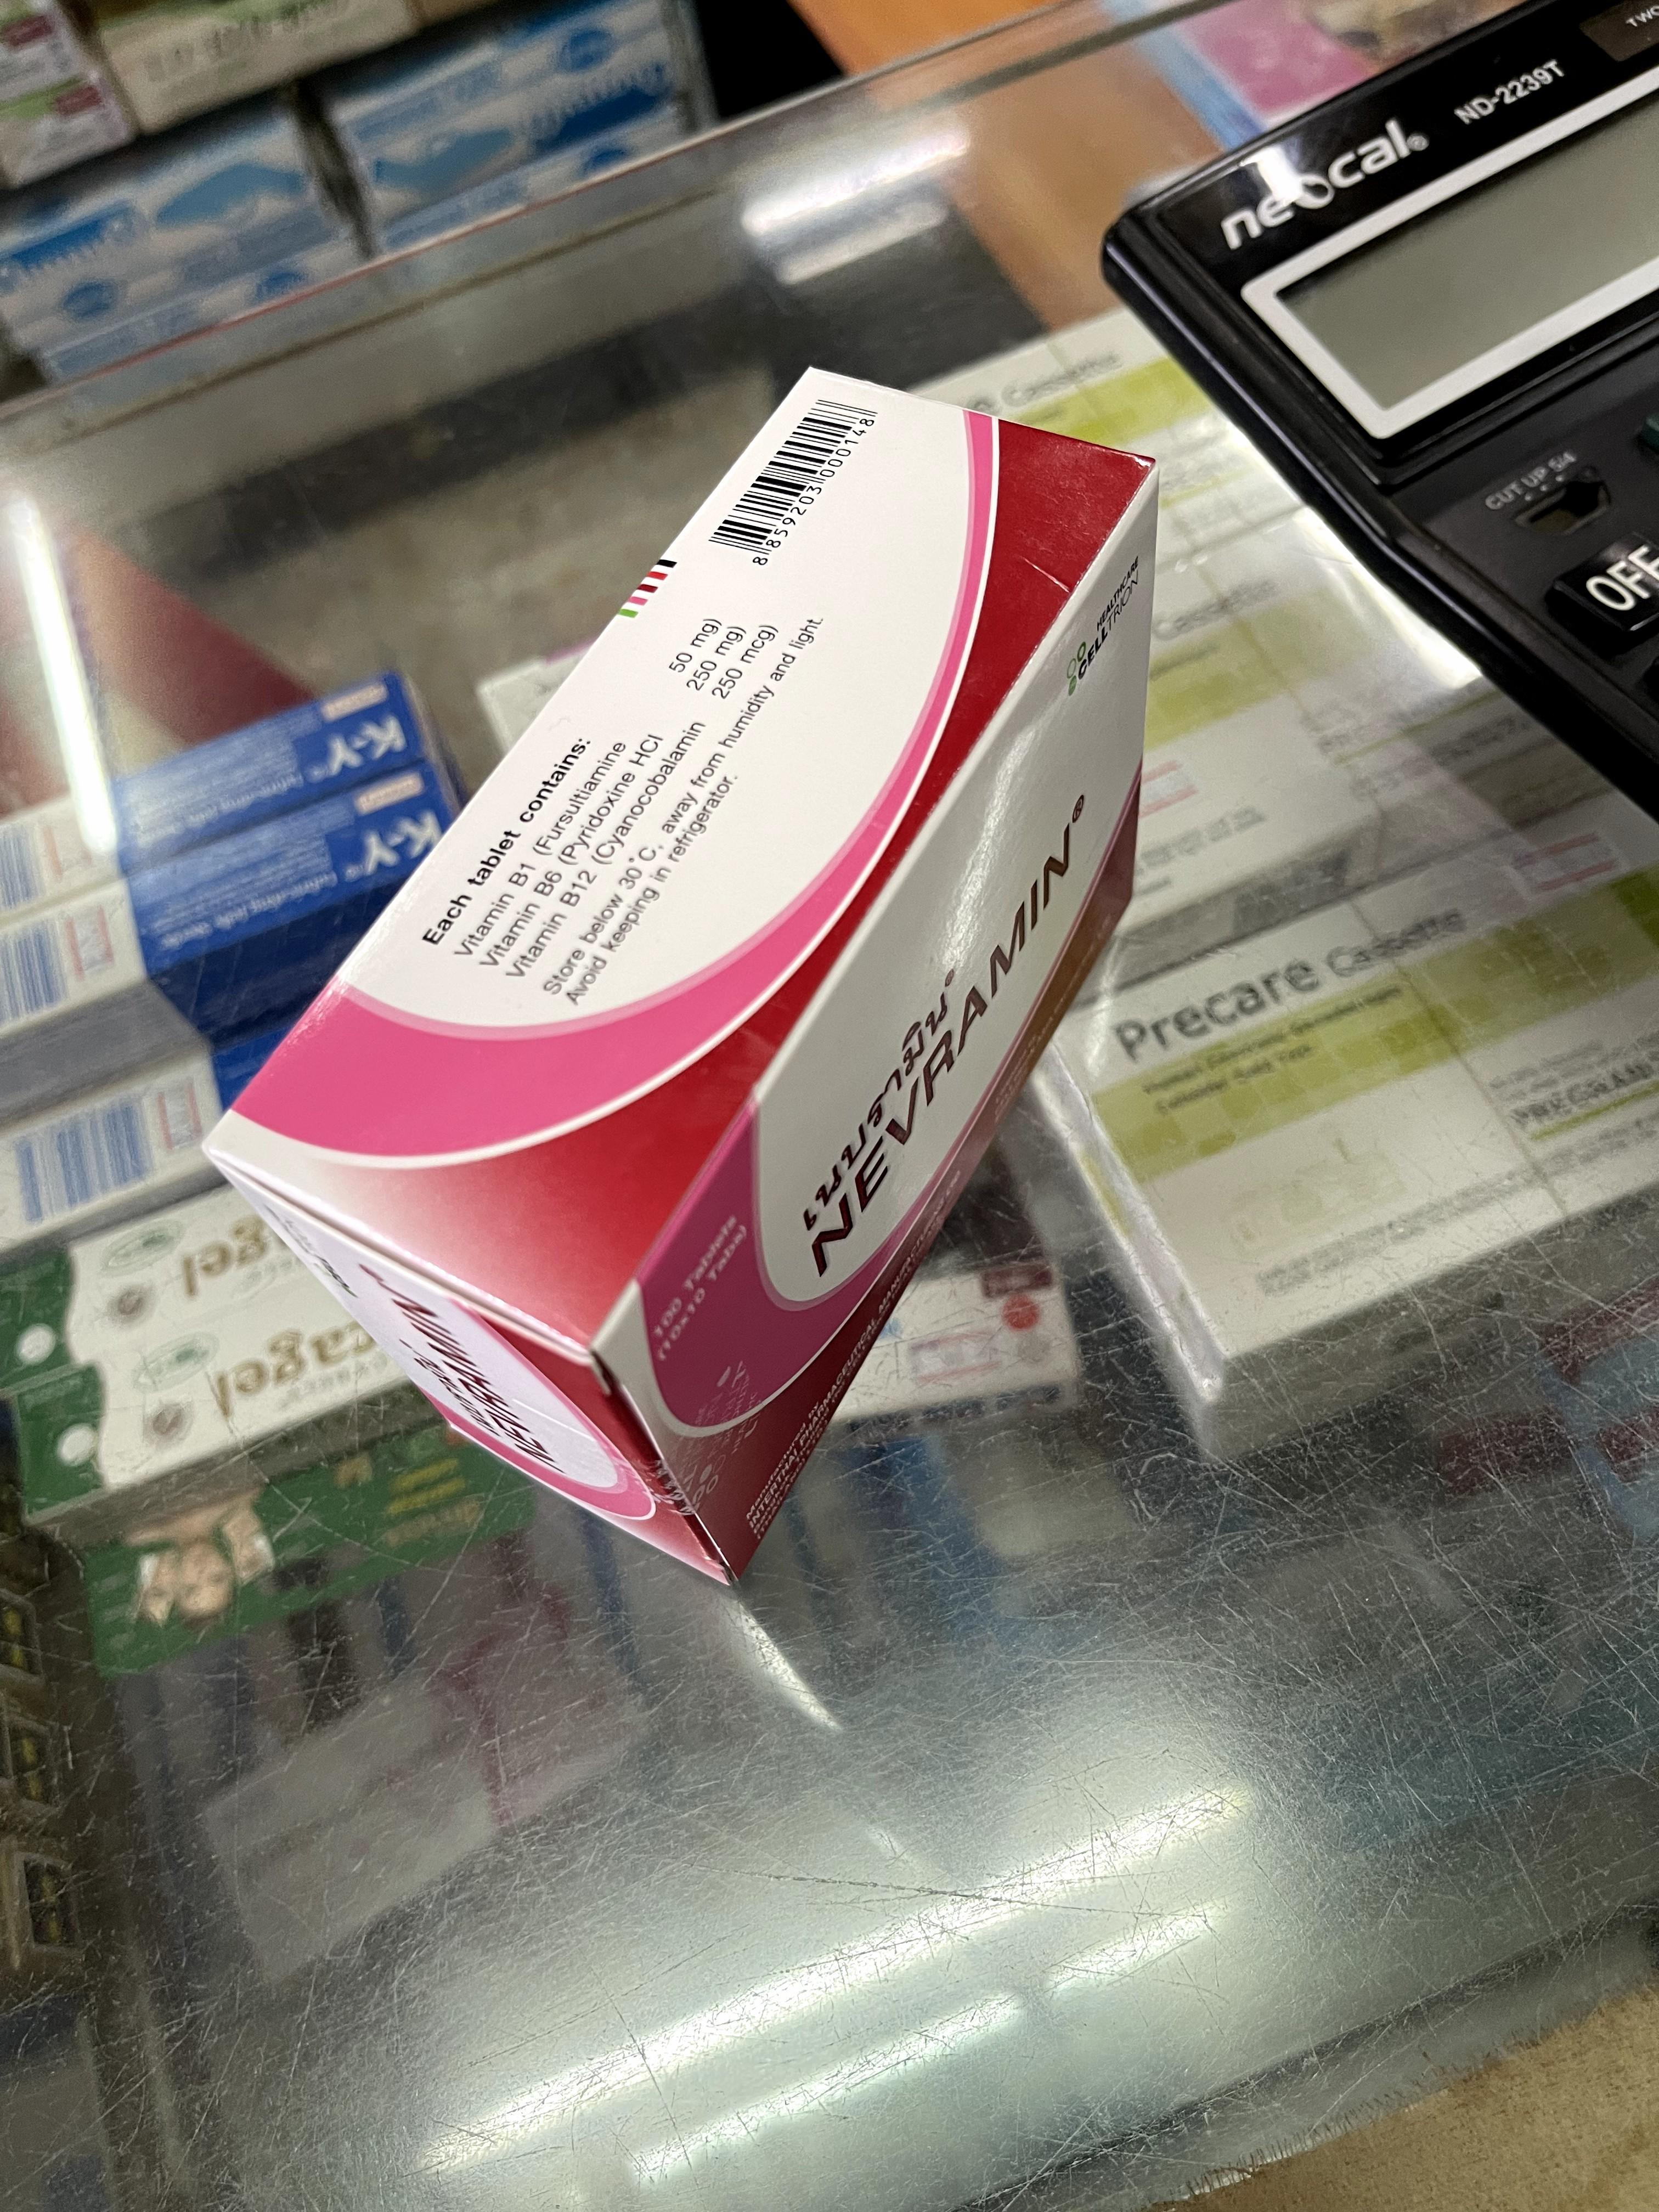Nevramin: (206, 376, 1150, 1583)
